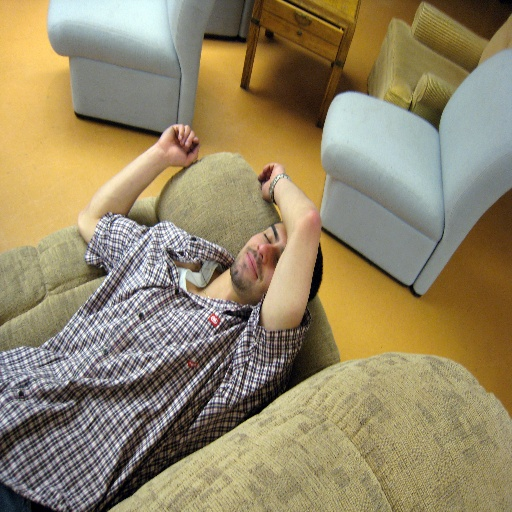hand: (152, 120, 201, 162), (256, 160, 286, 203)
